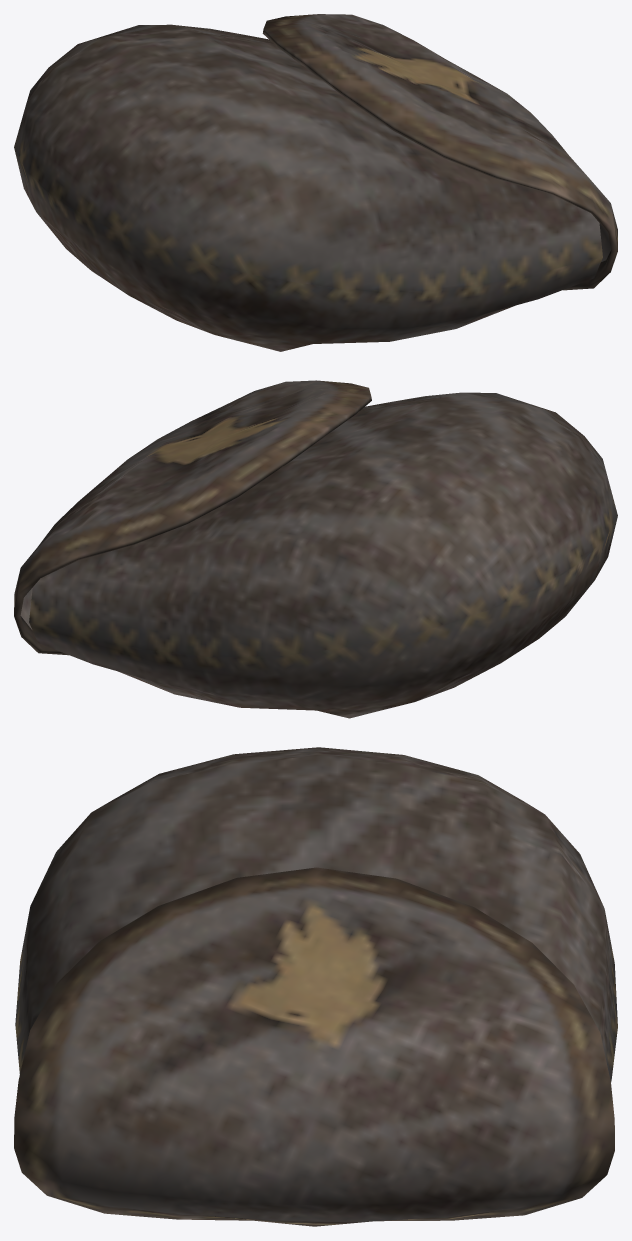
File: dunland_prop_wulf_bag_c.fbx
The picture shows the model from 3 angles, top to bottom: view 1: azimuth 30°, elevation 25°; view 2: azimuth 150°, elevation 25°; view 3: azimuth 270°, elevation 25°; orthographic projection. The views are drawn at different scales.
Parts seen in each view (by area): view 1: dunland_prop_wulf_bag_c; view 2: dunland_prop_wulf_bag_c; view 3: dunland_prop_wulf_bag_c.
Part boxes in pixels (bbox=[...]): dunland_prop_wulf_bag_c: bbox=[14, 14, 617, 351]; dunland_prop_wulf_bag_c: bbox=[14, 380, 617, 718]; dunland_prop_wulf_bag_c: bbox=[14, 747, 617, 1226].
Bounding box in the file's own units: 0.0953 × 0.0857 × 0.0467.
1 material, 1 textured.
